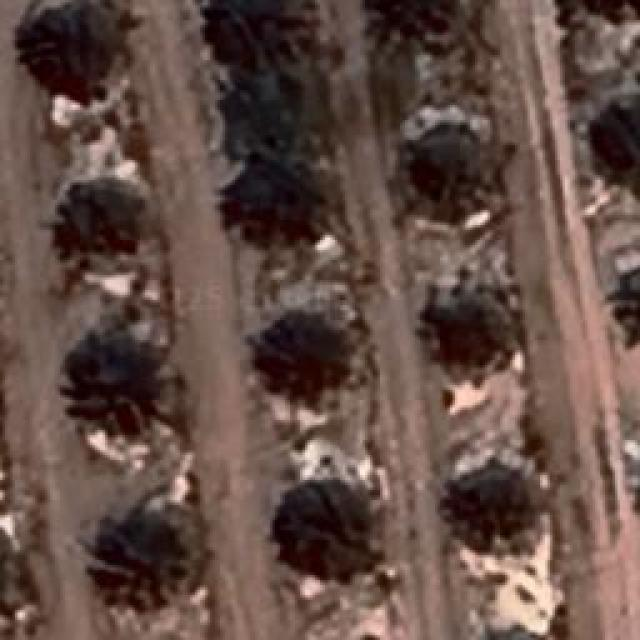PalmTree: (58, 330, 174, 460), (84, 508, 188, 622), (35, 0, 143, 108), (50, 185, 165, 273), (264, 304, 358, 406), (272, 485, 368, 575), (404, 116, 488, 216), (437, 451, 525, 544), (202, 0, 320, 68), (412, 288, 508, 360), (237, 164, 305, 254), (372, 0, 462, 62), (582, 94, 640, 186), (606, 260, 640, 354), (550, 0, 640, 26)
